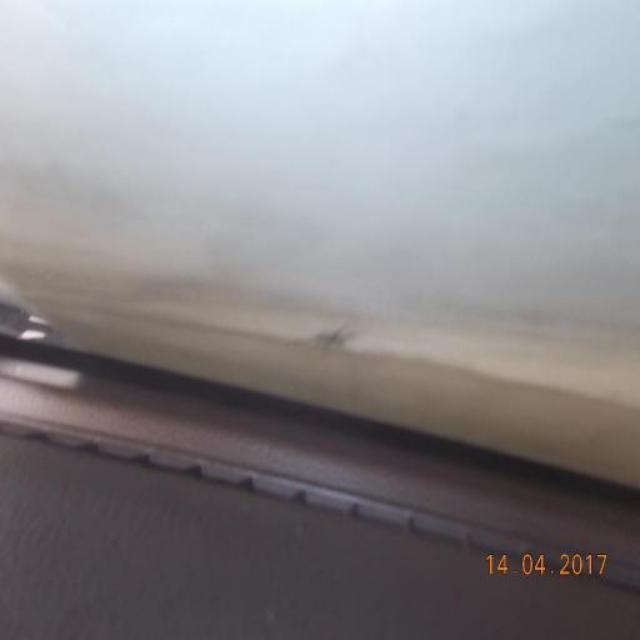scratch: (297, 313, 372, 369)
